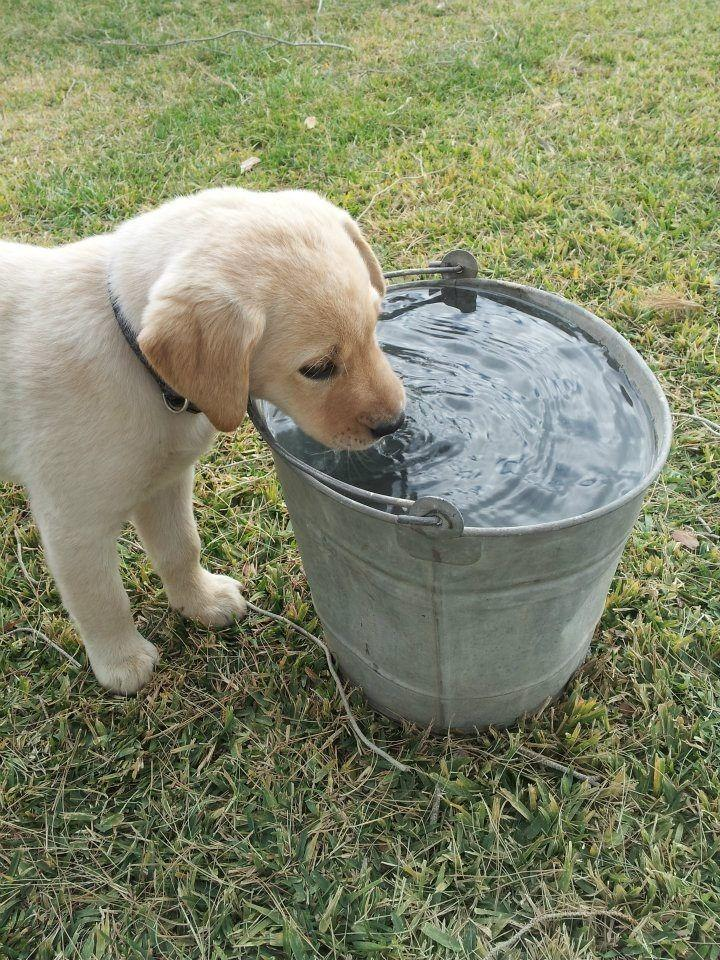puppy-dog: (1, 187, 409, 697)
